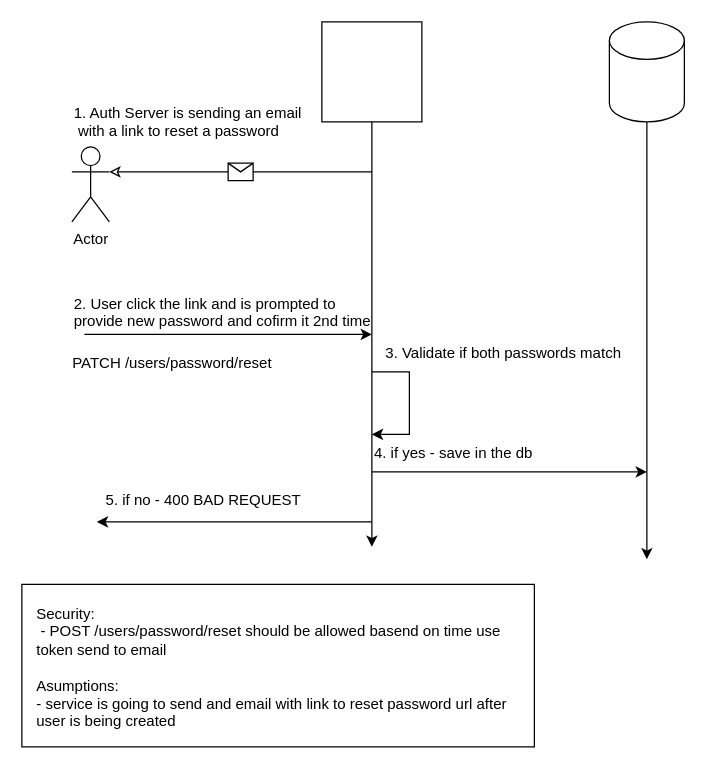
Image size: 706x769. Some labels were removed from this diagram. Here are the shapes that lost their labels. From the top down, the box of each, then its label:
(321, 21, 422, 122): Auth Server
(608, 21, 684, 122): db
